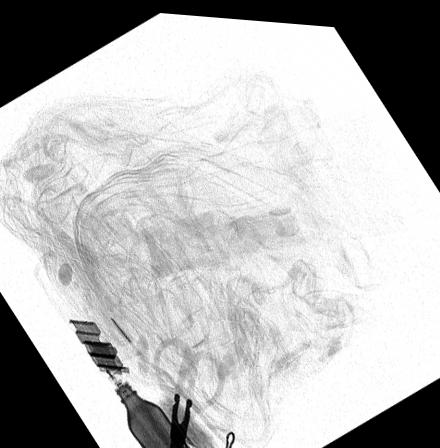Scissors: (151, 333, 228, 448)
